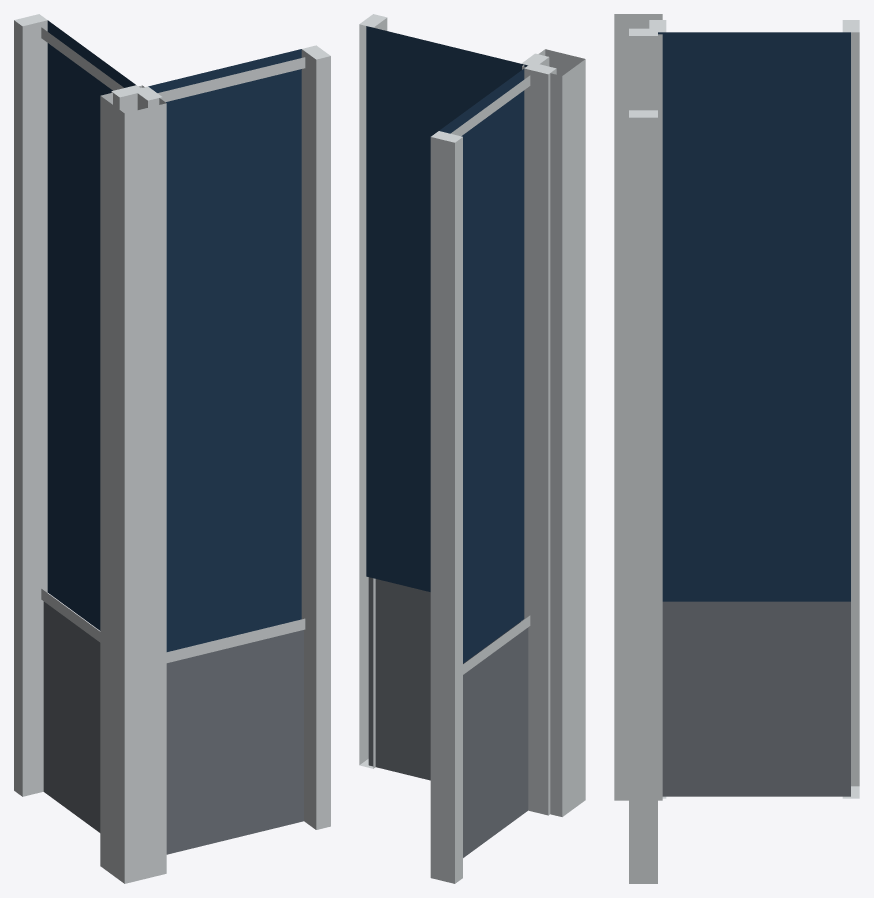
Rendered from mid-c1.fbx.
3 renders of one model, left to right at view 1: azimuth 30°, elevation 25°; view 2: azimuth 150°, elevation 25°; view 3: azimuth 270°, elevation 25°, orthographic. The views are drawn at different scales.
Parts seen in each view (by area): view 1: a2010/0/mid-c1; view 2: a2010/0/mid-c1; view 3: a2010/0/mid-c1.
Part boxes in pixels (<box>): a2010/0/mid-c1: <box>14,14,330,883</box>; a2010/0/mid-c1: <box>359,14,585,883</box>; a2010/0/mid-c1: <box>614,14,859,883</box>.
Size of the model in its own units: 1.02 by 3.5 by 1.02.
